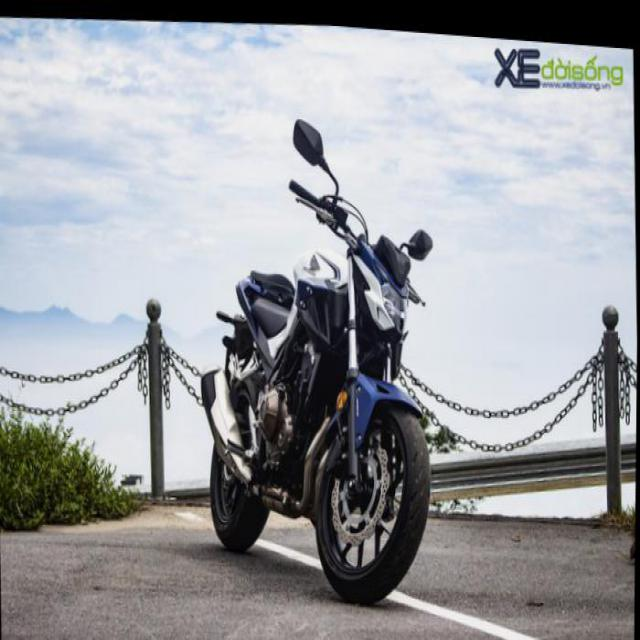CB500F: (191, 91, 444, 611)
